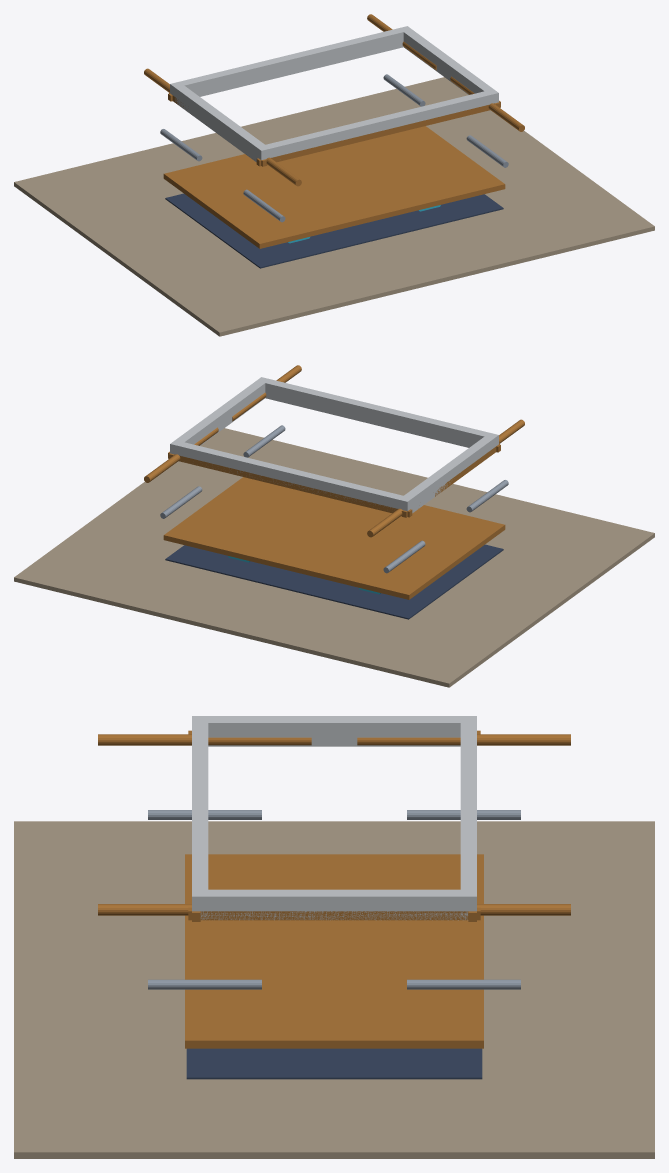
Rendered from stage_07_openings.glb.
3 views of the same model, one above another, from view 1: azimuth 30°, elevation 25°; view 2: azimuth 150°, elevation 25°; view 3: azimuth 270°, elevation 25° (orthographic). The views are drawn at different scales.
Parts seen in each view (by area): view 1: world; view 2: world; view 3: world.
Part boxes in pixels (bbox=[...]): world: bbox=[14, 14, 654, 336]; world: bbox=[14, 365, 654, 687]; world: bbox=[14, 716, 654, 1158].
Size of the model in its own units: 11 by 2.9 by 9.
